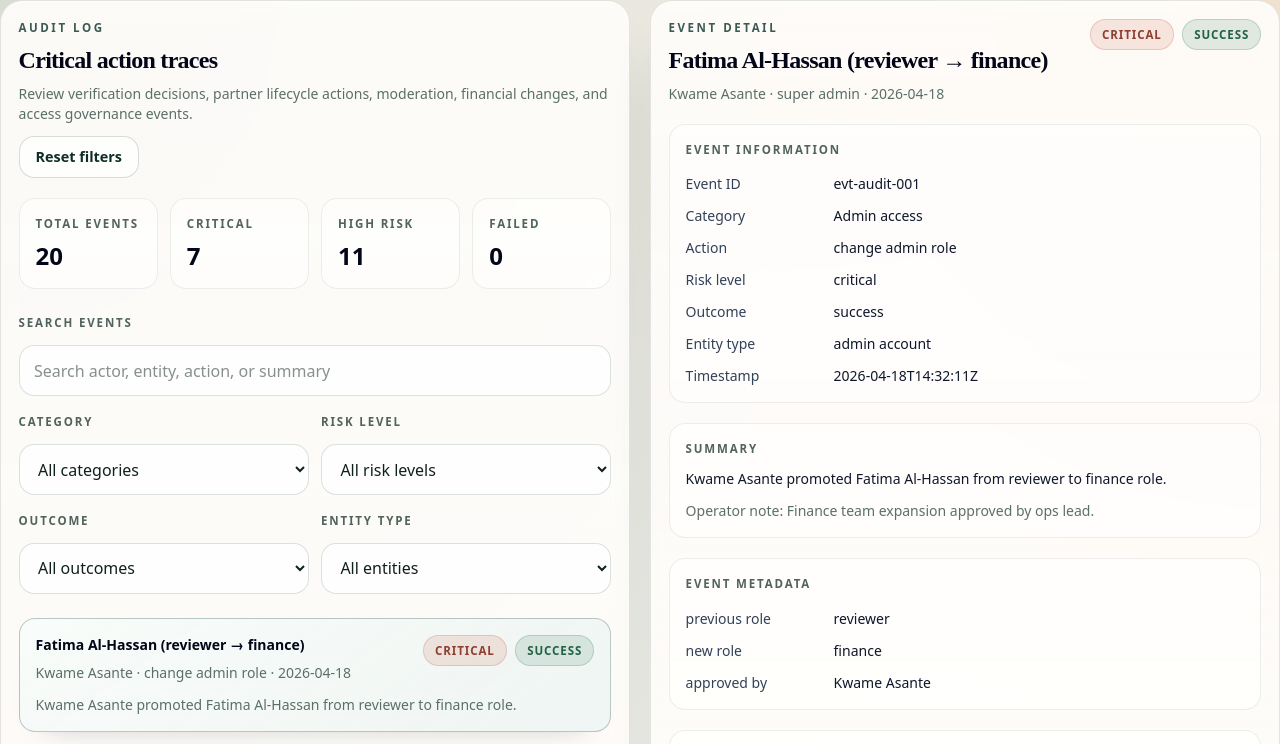
AuditComplianceWorkspace › renders empty filter state when no entries match the filter
The width and height of the screenshot is (1280, 744).
In the field named "Search audit log": (315,371) x1=19 y1=345 x2=611 y2=396, type "zzznomatch"
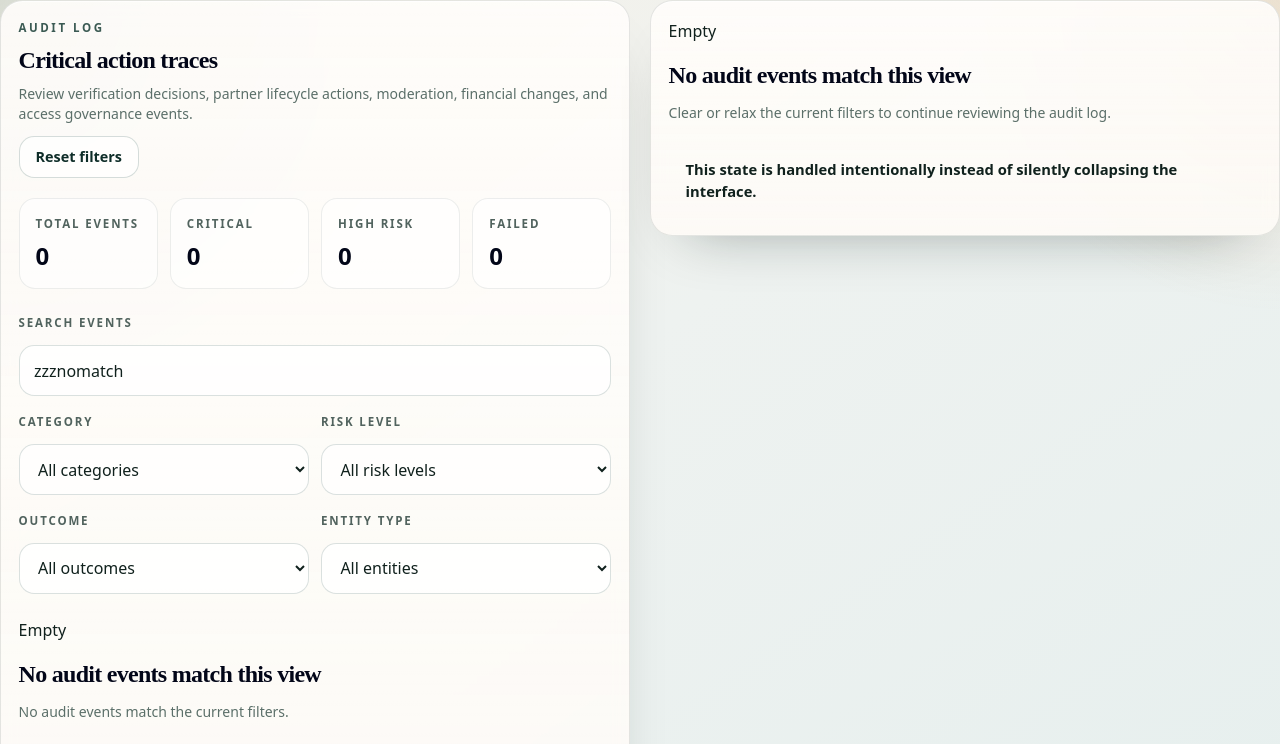
Expected: the heading "No audit events match this view" below "Outcome" is shown, x1=19 y1=661 x2=321 y2=687
